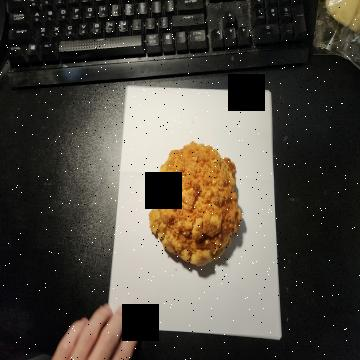soboru_bread: (149, 142, 241, 269)
